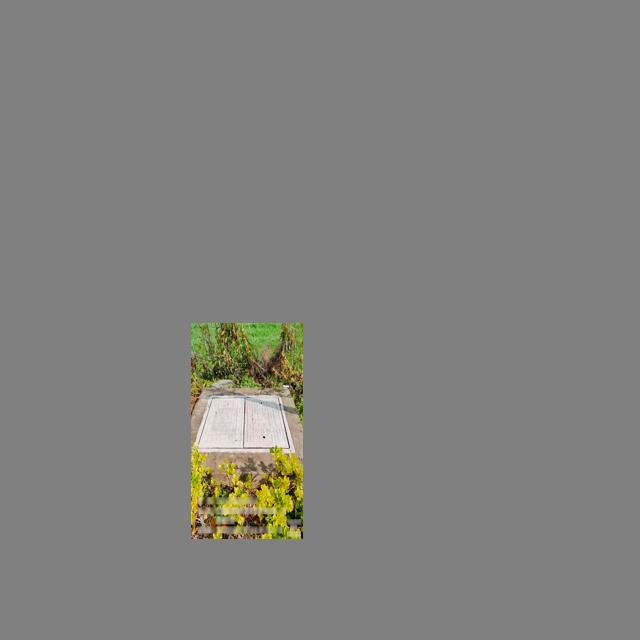good: (193, 394, 295, 453)
